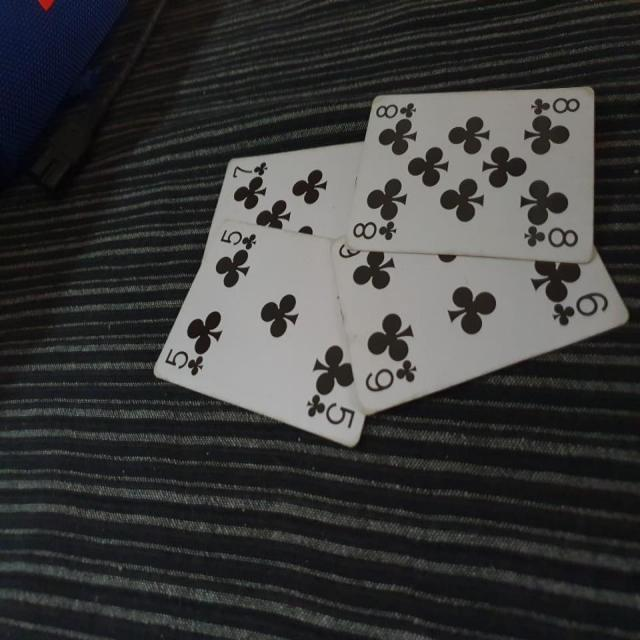5 Trefoils: (152, 220, 365, 450)
6 Trefoils: (330, 234, 631, 418)
7 Trefoils: (203, 140, 366, 240)
8 Trefoils: (343, 81, 598, 265)
